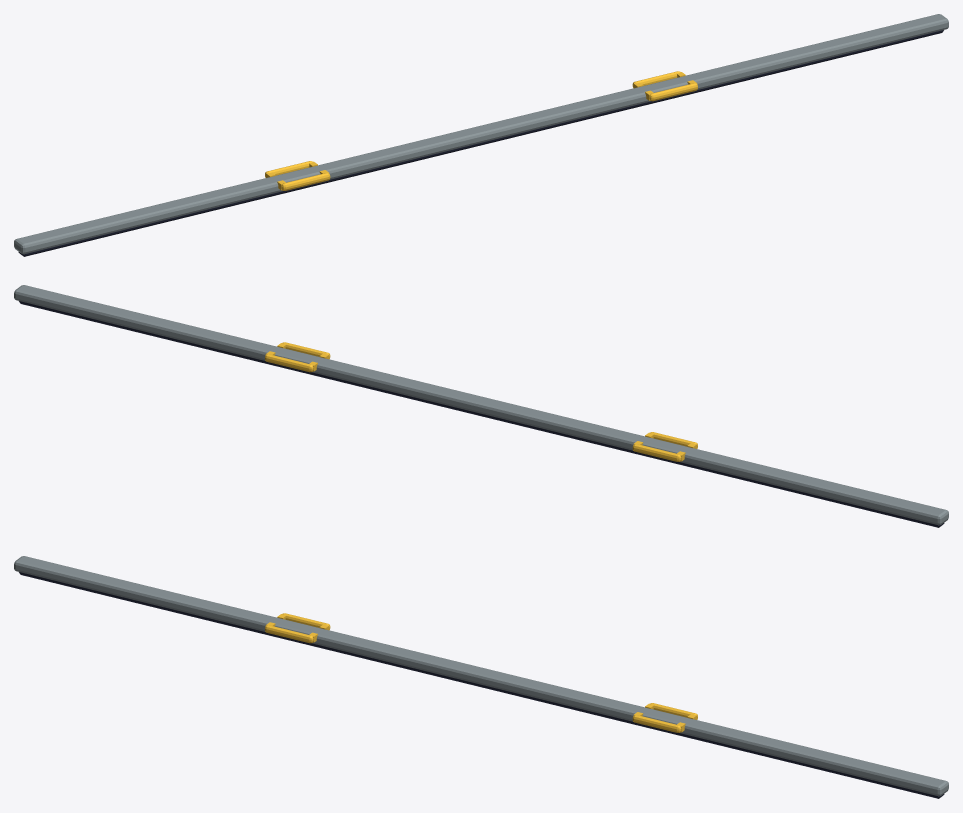
The model's file is sm_env_depot_door_bottom_bar.glb.
The picture shows the model from 3 angles, top to bottom: view 1: azimuth 30°, elevation 25°; view 2: azimuth 150°, elevation 25°; view 3: azimuth 330°, elevation 25°; orthographic projection.
Visible parts, largest first — view 1: BottomRail, RubberLip; view 2: BottomRail, RubberLip; view 3: BottomRail, RubberLip.
Part boxes in pixels (<box>): BottomRail: <box>14,14,948,254</box>; RubberLip: <box>18,30,943,256</box>; BottomRail: <box>14,285,948,525</box>; RubberLip: <box>19,301,944,527</box>; BottomRail: <box>14,556,948,796</box>; RubberLip: <box>19,572,944,798</box>.
Size of the model in its own units: 6.56 by 0.11 by 0.24.
